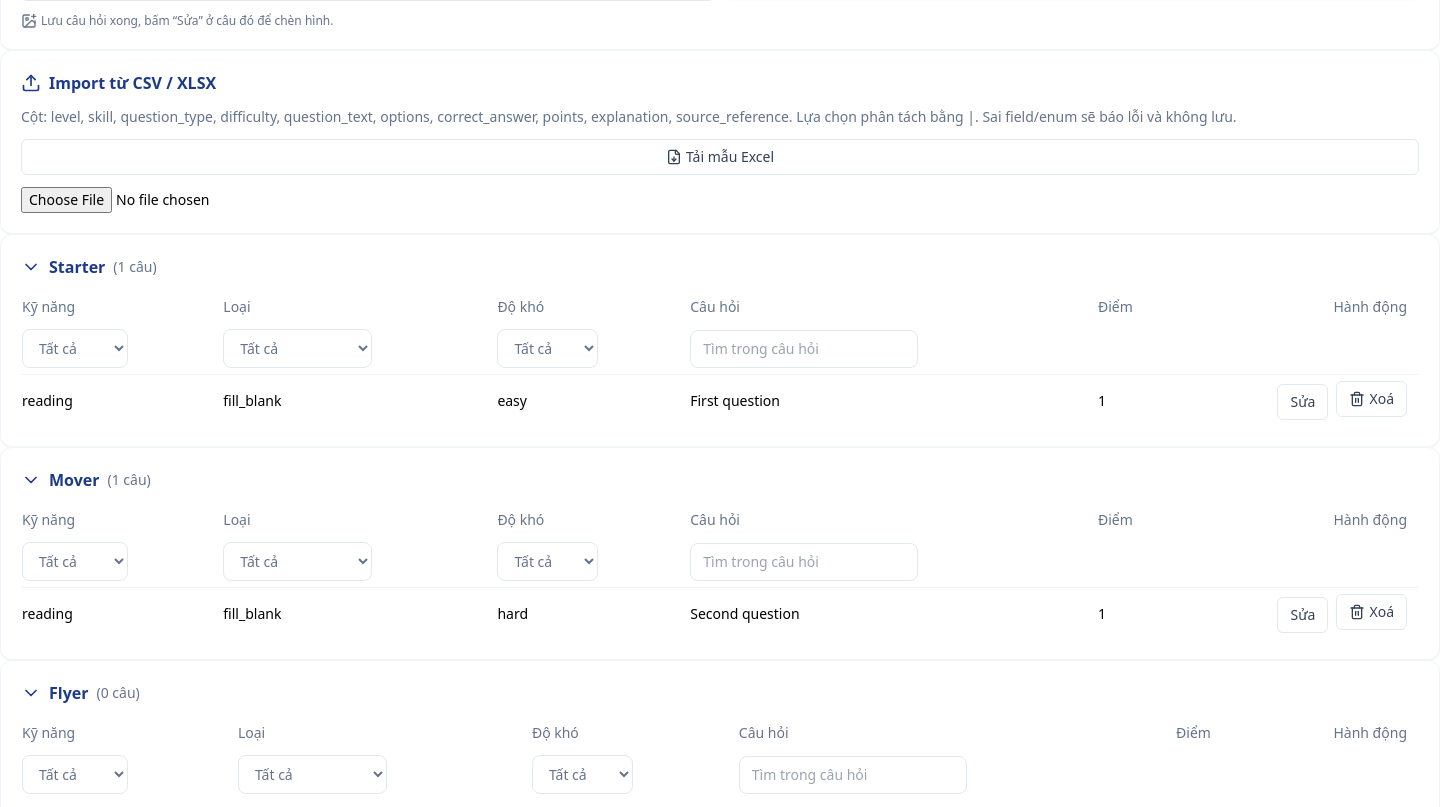
Test: question UI with real hooks/client/parser › edits existing data, saves metadata, clears nullable fields and refreshes list
(page scrolled)
Expected: the text "First question" is shown, [689, 374, 1097, 426]
Click the button "Sửa" in the row of "easy": [1303, 402] box [1278, 384, 1328, 420]
(page scrolled)
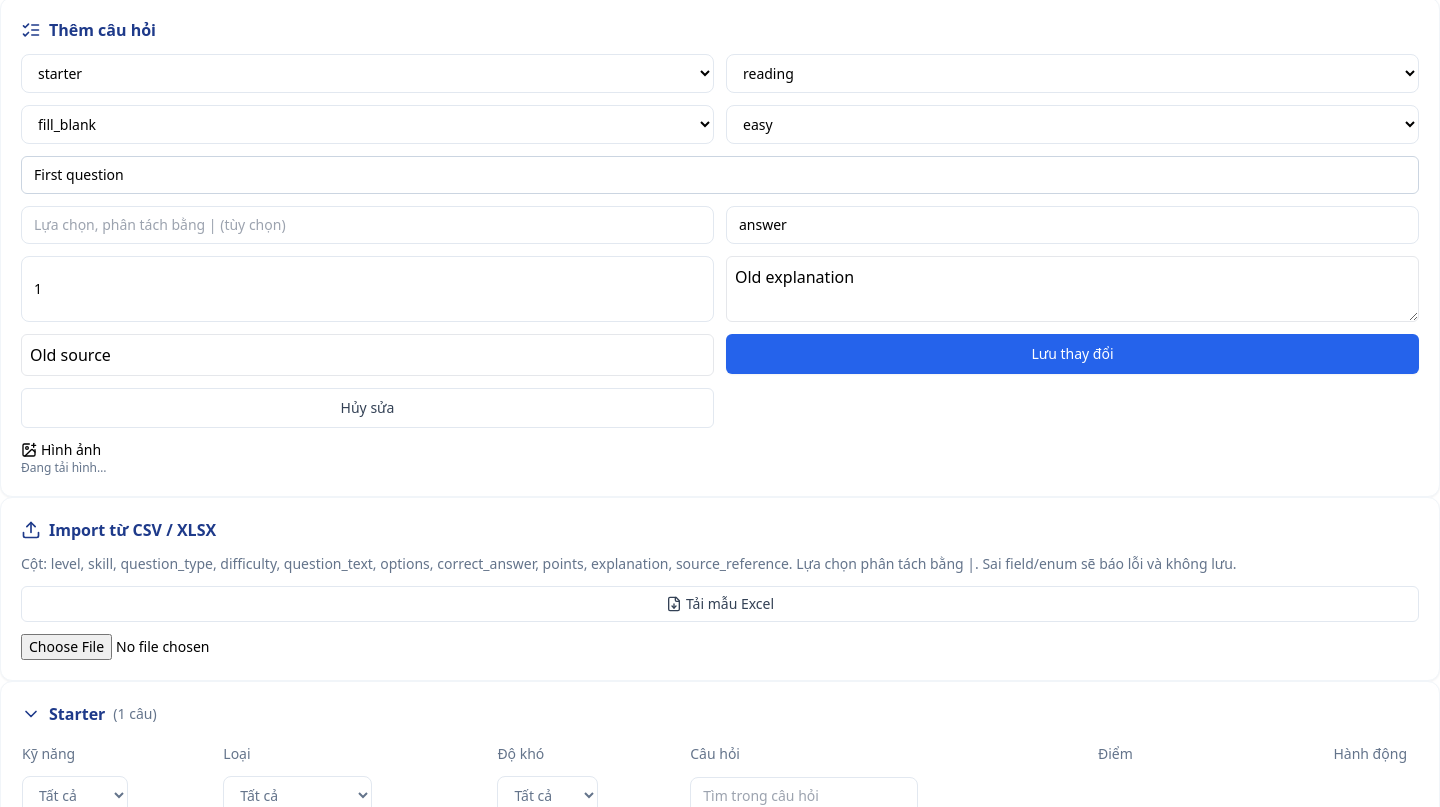
Expected: the text box named "Giải thích" holds "Old explanation", [726, 256, 1419, 322]
Expected: the field named "Nguồn tham khảo" holds "Old source", [21, 334, 714, 376]
Replace the text in the field named "Nội dung câu hỏi" with "Edited question": [720, 175] box [21, 156, 1419, 194]
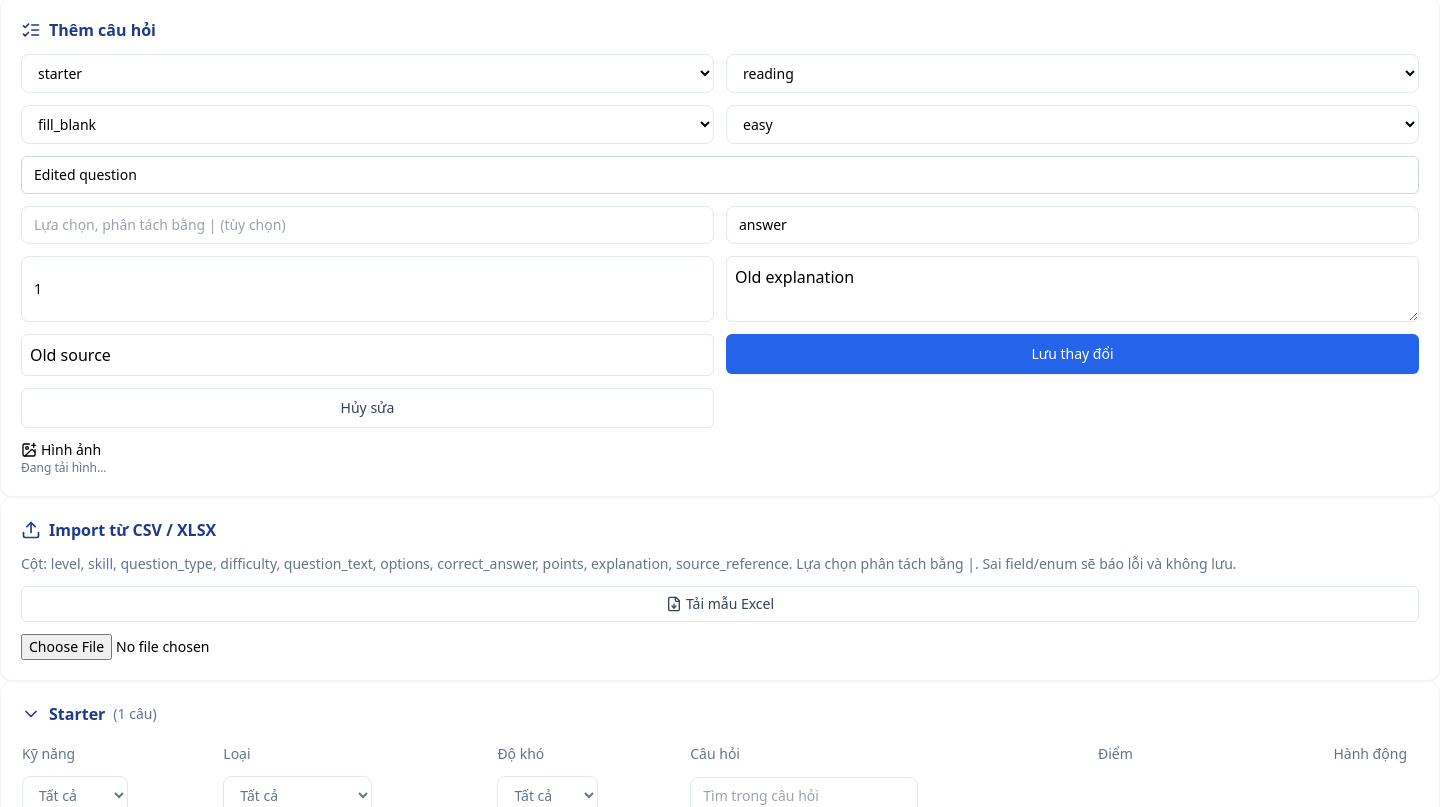
Replace the text in the text box named "Giải thích" with "New explanation": [1072, 289] box [726, 256, 1419, 322]
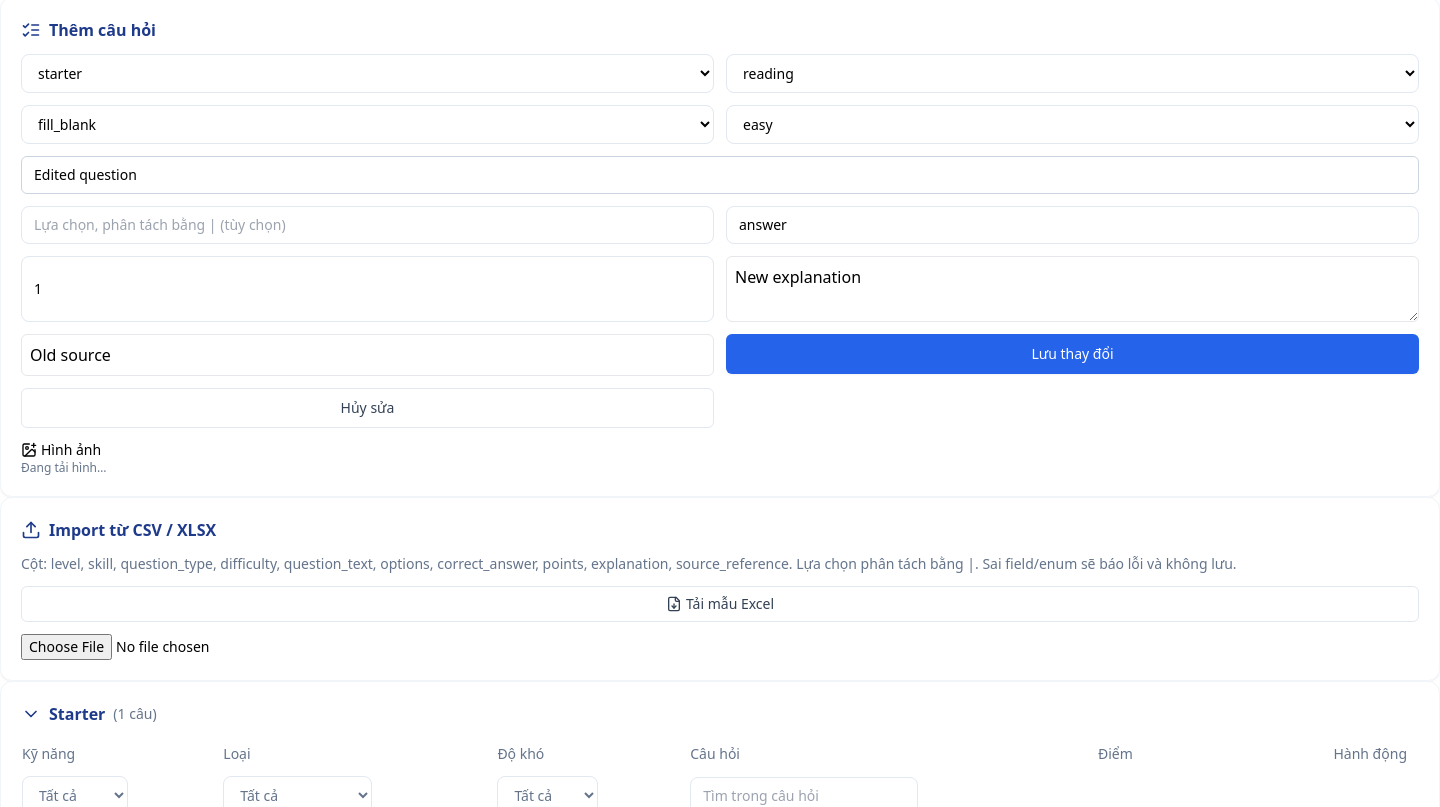
Clear the field named "Nguồn tham khảo": [368, 355] box [21, 334, 714, 376]
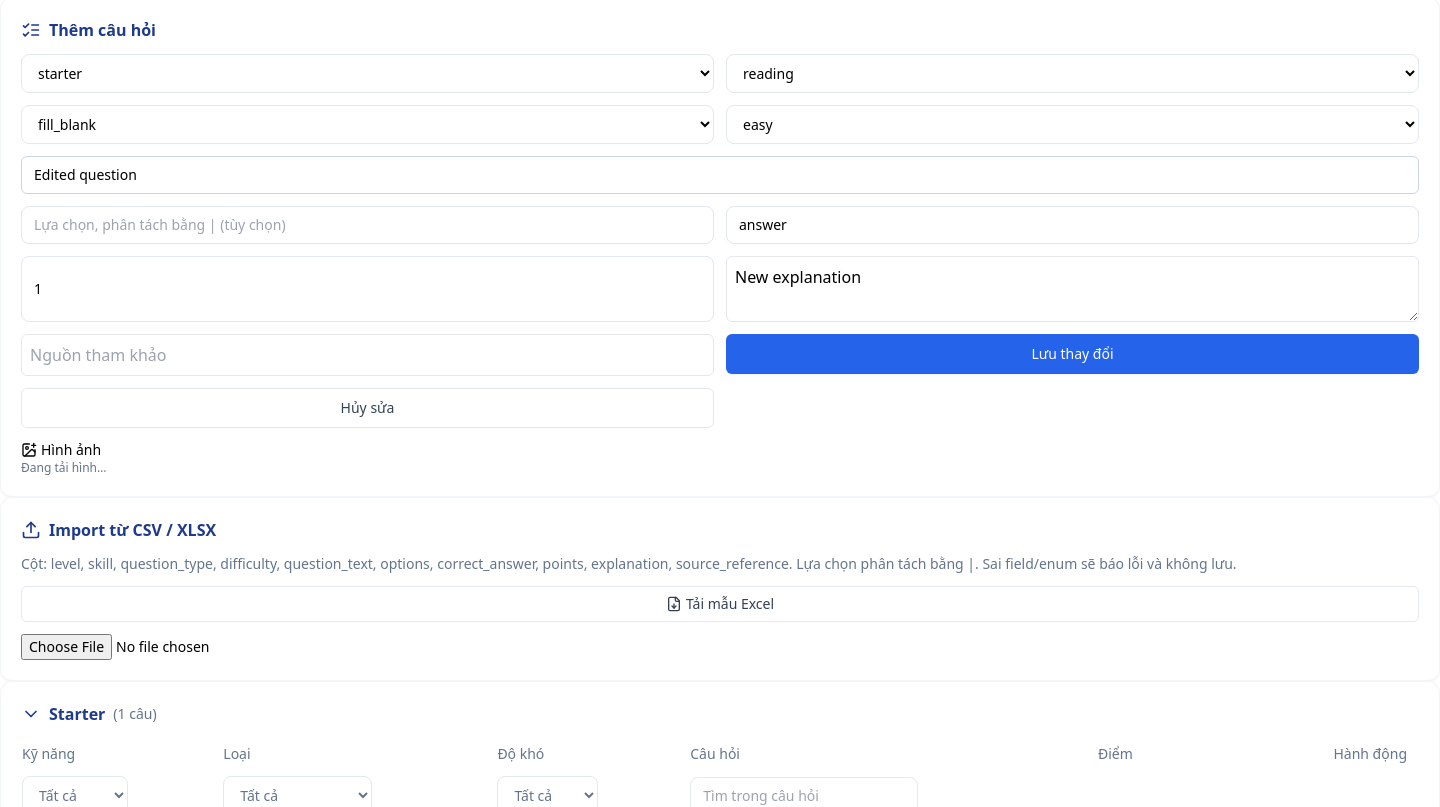
Click the button "Lưu thay đổi": [1072, 354] box [726, 334, 1419, 374]
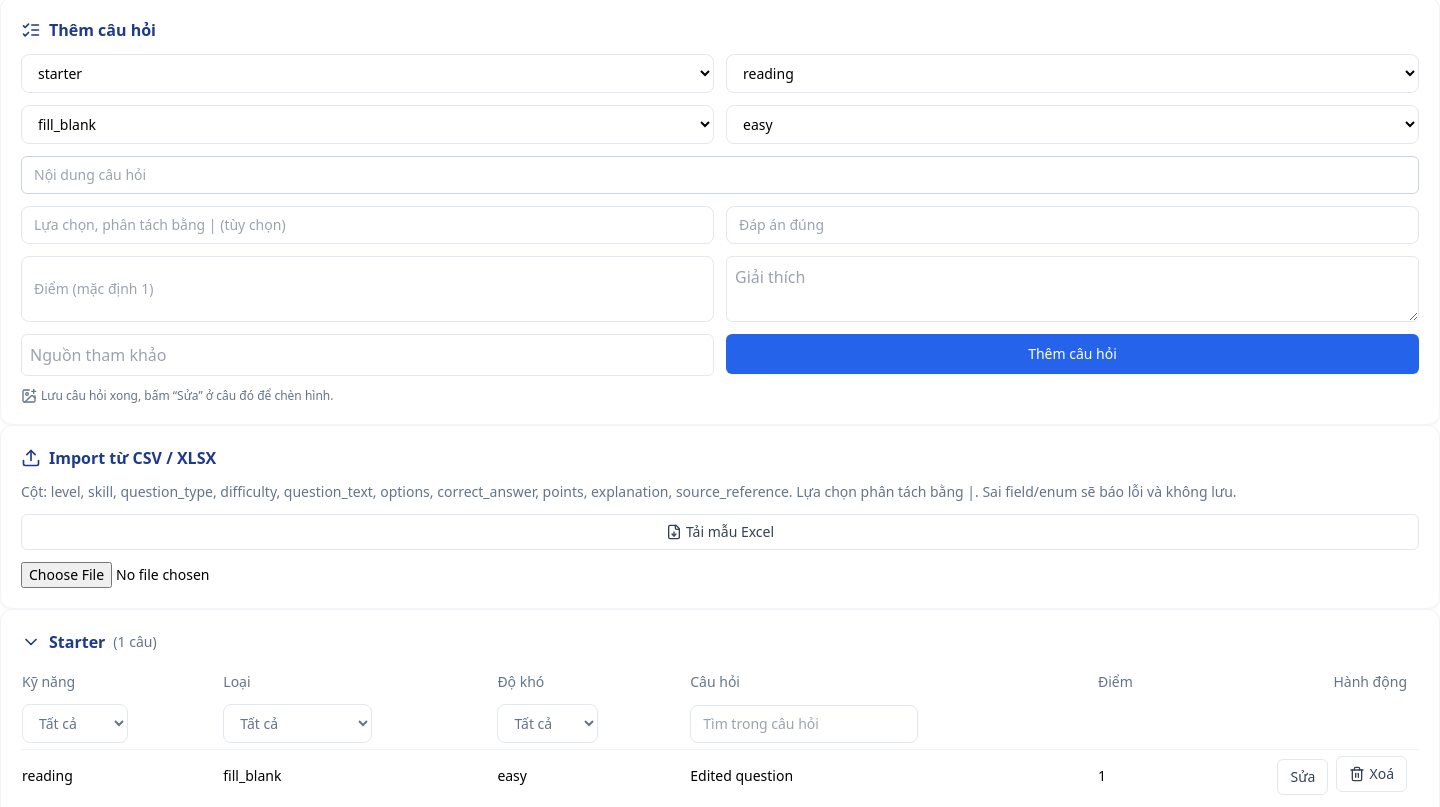
Expected: the text "Edited question" is shown, [689, 750, 1097, 801]
Expected: the button "Lưu thay đổi" is gone
